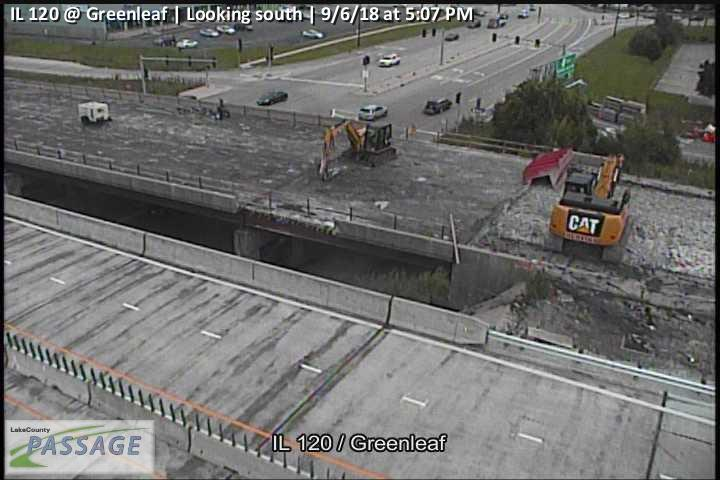SUV: (423, 97, 453, 115), (357, 104, 388, 120), (151, 33, 177, 48), (377, 52, 401, 66)
Sedan: (255, 91, 289, 106), (302, 27, 324, 39), (216, 23, 235, 35), (176, 38, 198, 48), (199, 27, 218, 37), (445, 31, 458, 42)
Truck: (520, 144, 634, 265), (313, 117, 397, 181)
